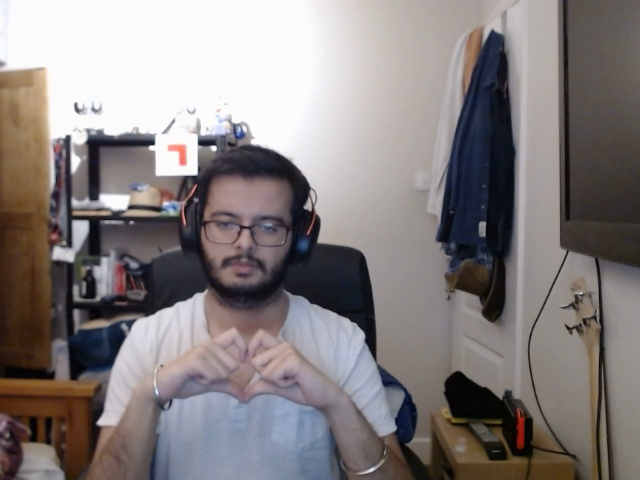Heart: (155, 323, 339, 426)
